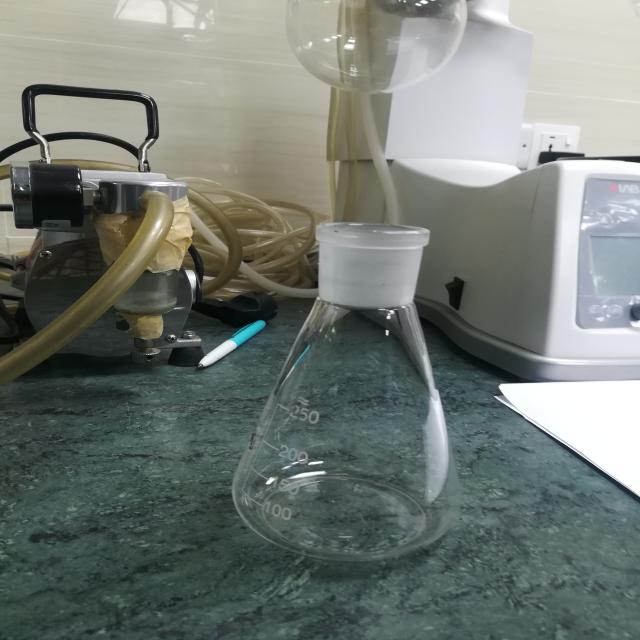Conical_Flask: (207, 192, 495, 600)
